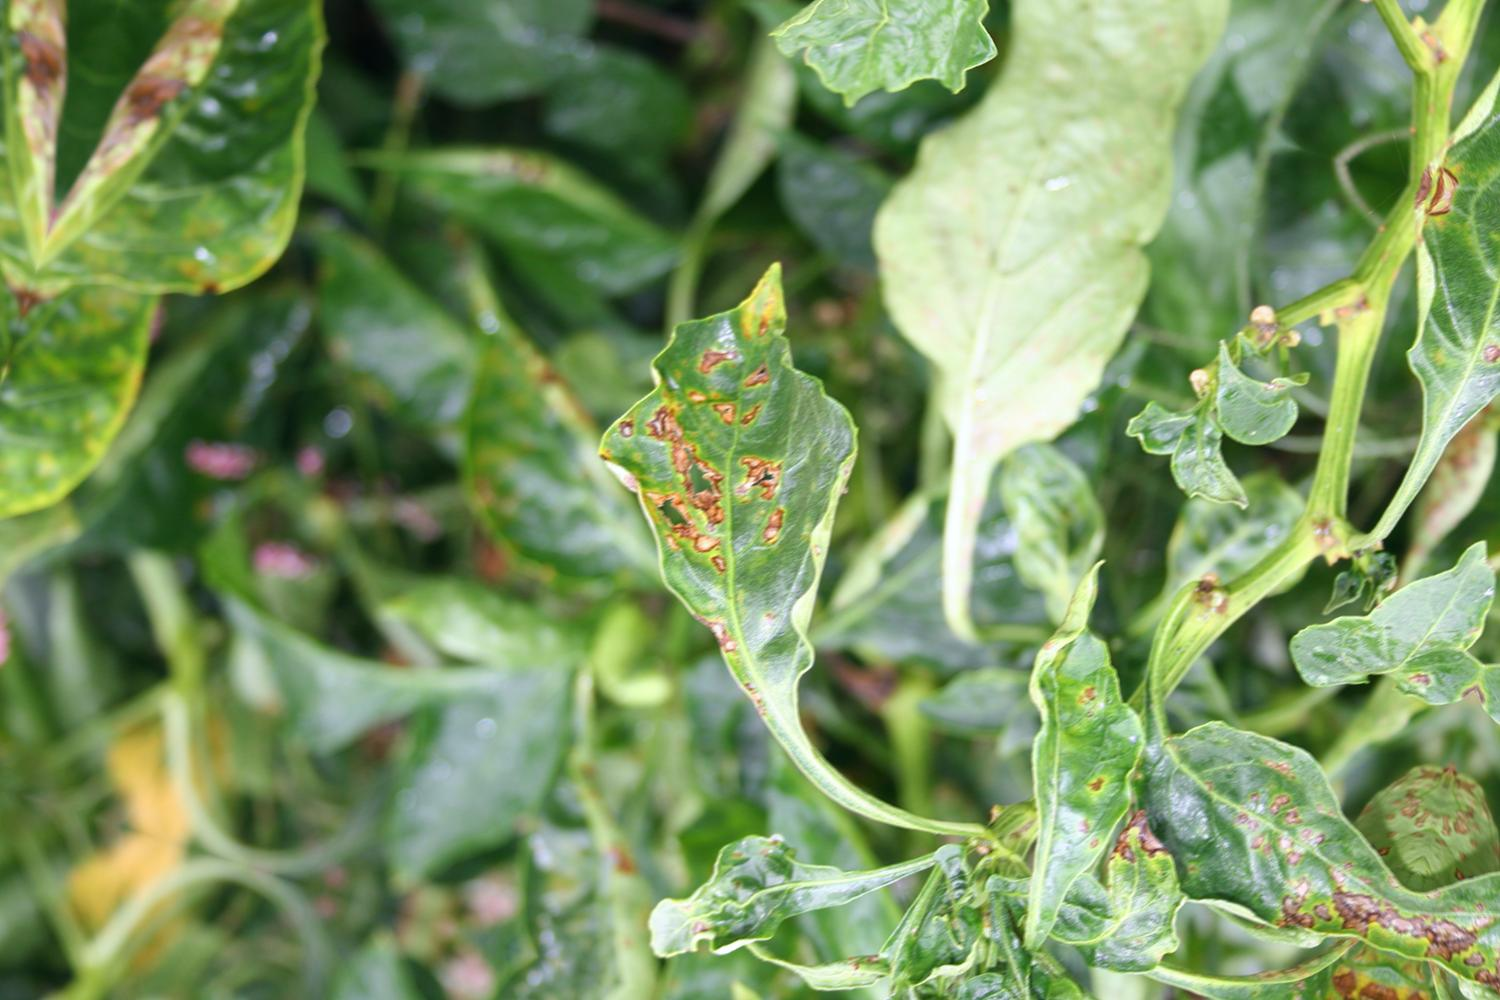Tomato leaf bacterial spot: (508, 217, 977, 771), (39, 0, 406, 374), (932, 597, 1196, 946), (1118, 708, 1430, 1000)
